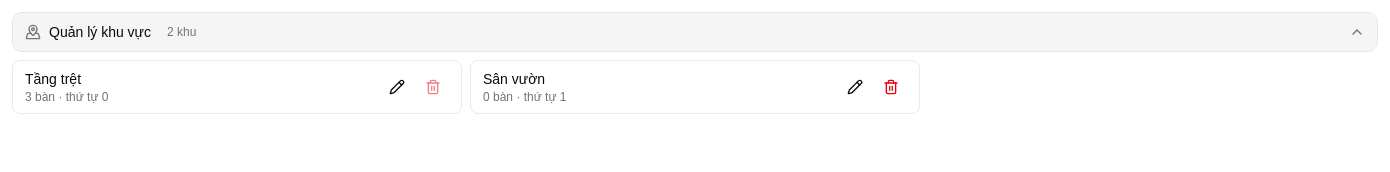
AreaManagementBar › opens edit dialog with selected area
Click the button named "Chỉnh sửa khu Tầng trệt".
click(397, 87)  # box 381,71 -> 413,103
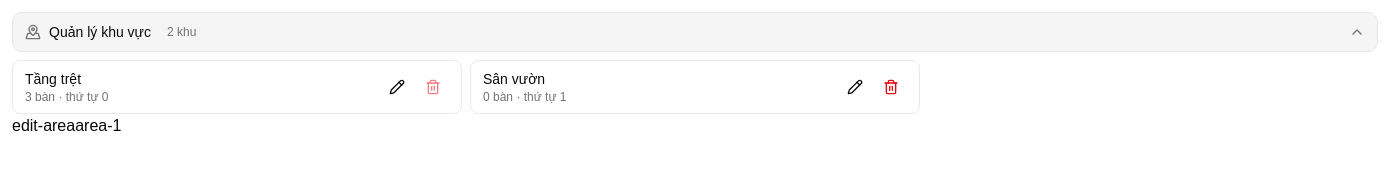
Check: the text with test id "open" reads "edit-area", box 12,117 -> 75,134
Check: the text with test id "current-area" reads "area-1", box 75,117 -> 122,134
